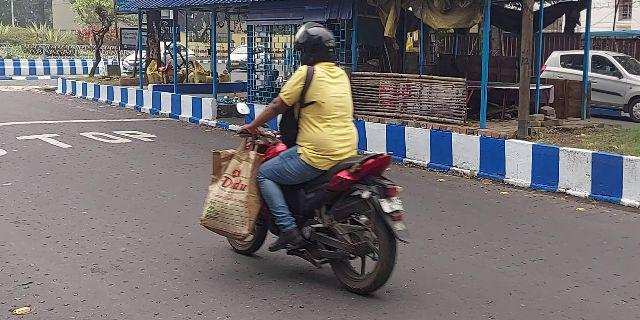Motorbike: (195, 19, 411, 293)
